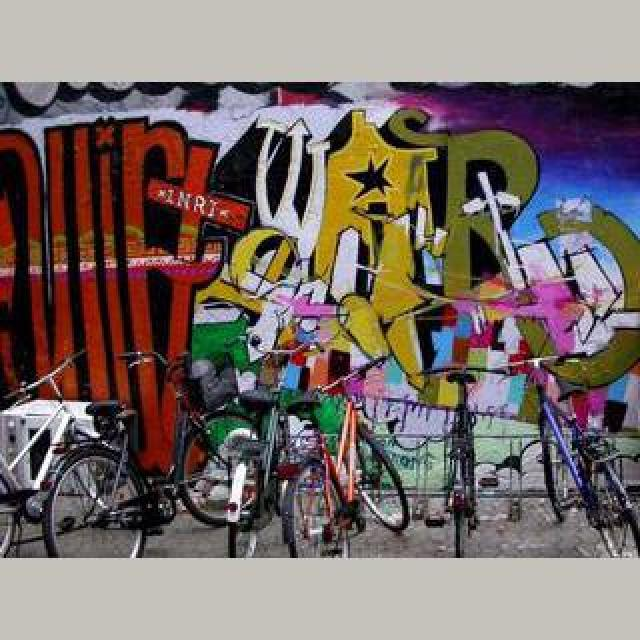Person: (42, 350, 244, 558), (196, 346, 328, 558), (278, 351, 410, 557), (526, 362, 640, 558), (0, 346, 100, 558)
